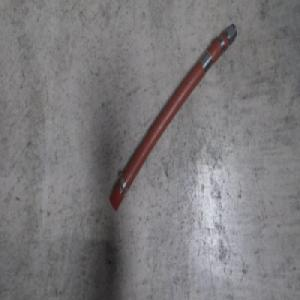Hose: (107, 19, 238, 214)
